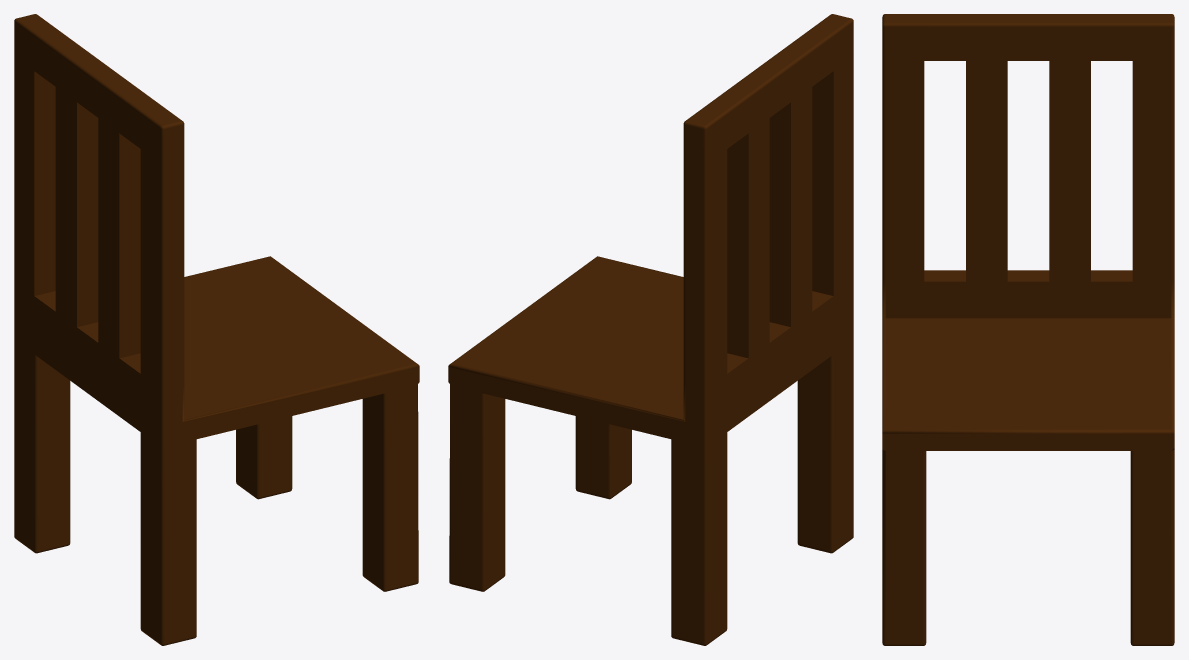
File: Chair.FBX
The picture shows the model from 3 angles, left to right: view 1: azimuth 30°, elevation 25°; view 2: azimuth 150°, elevation 25°; view 3: azimuth 270°, elevation 25°; orthographic projection.
Parts seen in each view (by area): view 1: Box001; view 2: Box001; view 3: Box001.
Boxes of the visible parts, x1=… form: Box001: x1=14, y1=14, x2=419, y2=645; Box001: x1=448, y1=14, x2=853, y2=645; Box001: x1=882, y1=14, x2=1174, y2=645.
Bounding box in the file's own units: 9 × 17.36 × 9.
